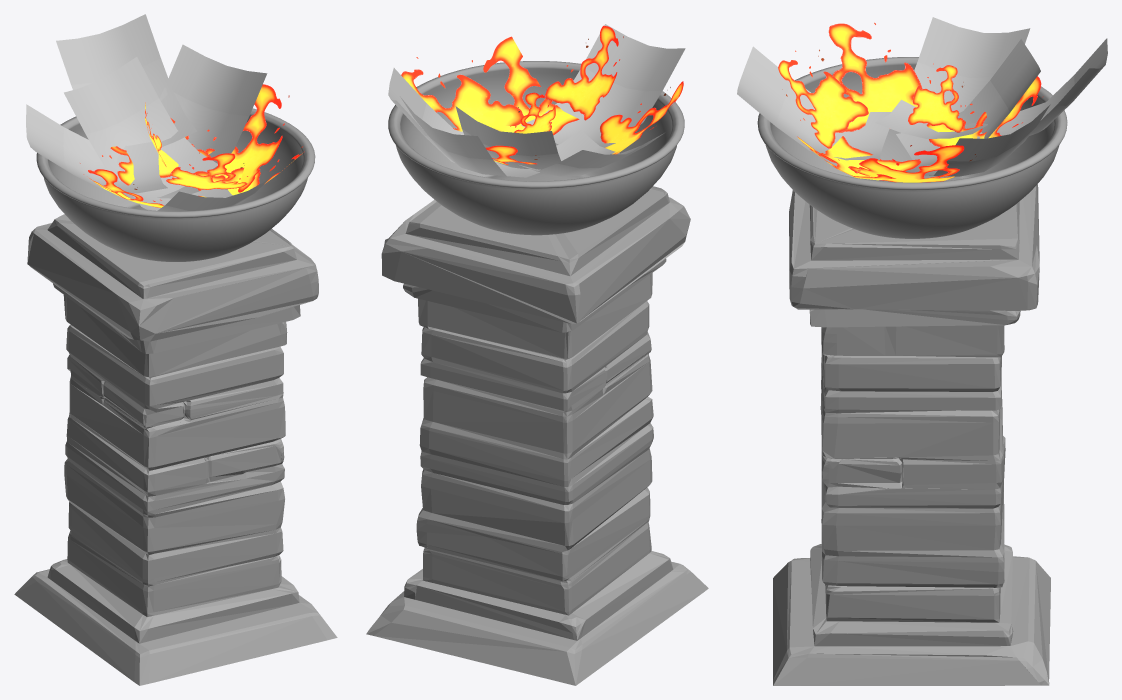
The model's file is Torch.fbx.
3 renders of one model, left to right at view 1: azimuth 30°, elevation 25°; view 2: azimuth 150°, elevation 25°; view 3: azimuth 270°, elevation 25°, orthographic. The views are drawn at different scales.
Parts seen in each view (by area): view 1: Stand, Fire1, Bowl1, Fire2; view 2: Stand, Bowl1, Fire1, Fire2; view 3: Stand, Fire1, Bowl1, Fire2.
Part boxes in pixels (x1,y1,x2,y2): Stand: (14, 214, 337, 685); Fire1: (26, 14, 304, 211); Bowl1: (36, 108, 315, 261); Fire2: (80, 84, 289, 207); Stand: (366, 186, 708, 685); Bowl1: (388, 61, 684, 235); Fire1: (388, 24, 685, 177); Fire2: (401, 25, 683, 165); Stand: (773, 184, 1050, 685); Fire1: (737, 17, 1107, 180); Bowl1: (757, 57, 1067, 238); Fire2: (778, 22, 1043, 182).
Bounding box in the file's own units: 3.22 × 6.49 × 3.69.
